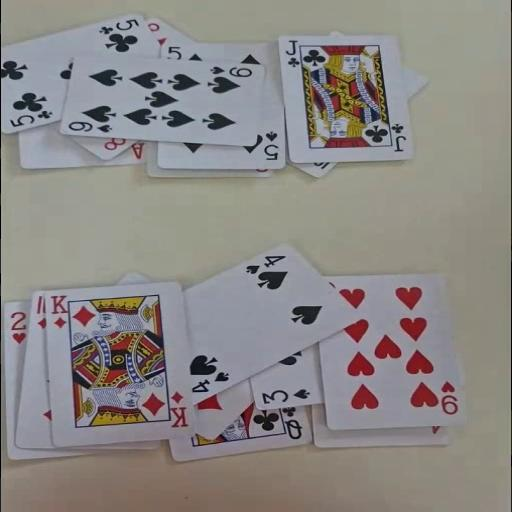2: (8, 309, 30, 345)
4: (243, 253, 287, 275), (188, 372, 231, 394)
5: (7, 109, 54, 128), (96, 17, 140, 35), (262, 129, 280, 161)
8: (100, 136, 128, 151)
9: (438, 378, 460, 416), (65, 119, 113, 133), (207, 64, 254, 78)
J: (388, 121, 407, 153), (284, 38, 300, 68)
K: (49, 293, 68, 329)
